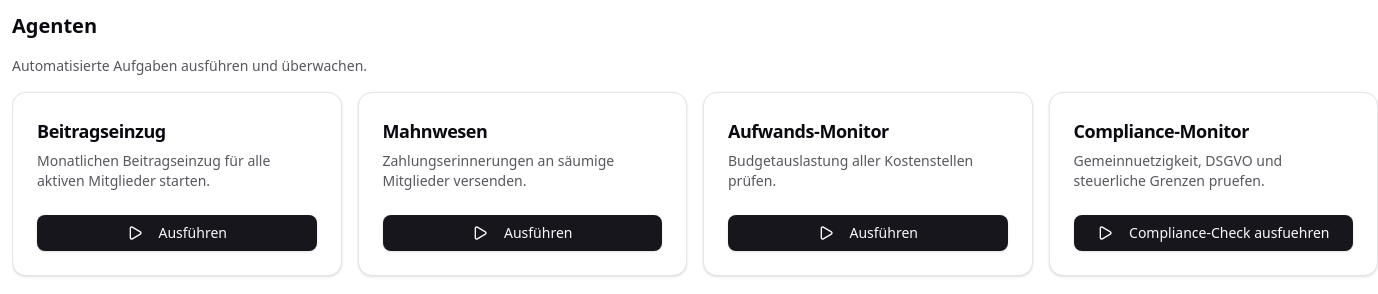
Test case: AgentDashboard › shows loading state when Mahnwesen is running
This screenshot has width=1378, height=294.
Click the button with test id "run-mahnwesen" at [522, 233], box 382,215 -> 662,251
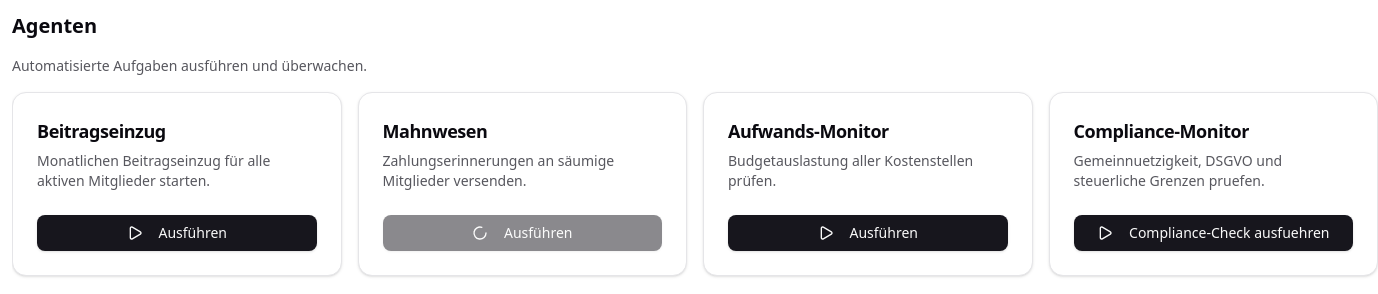
expect the button with test id "run-mahnwesen" is disabled: met, box 382,215 -> 662,251
